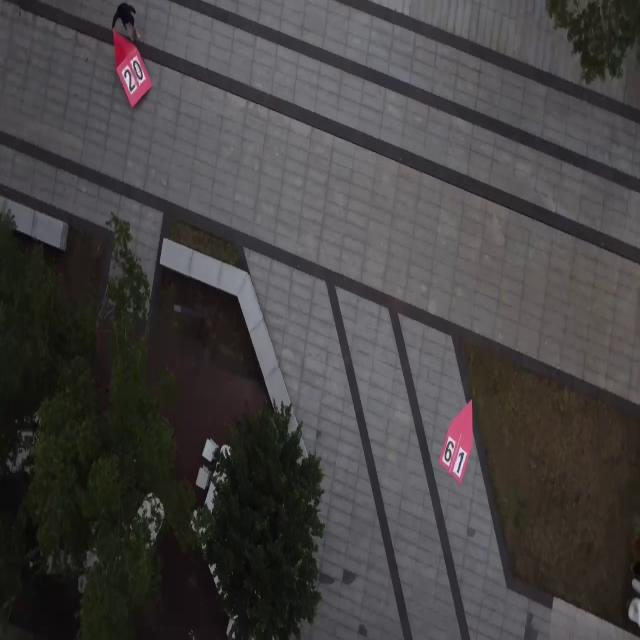-sign-: (112, 27, 152, 108), (438, 398, 474, 486)
